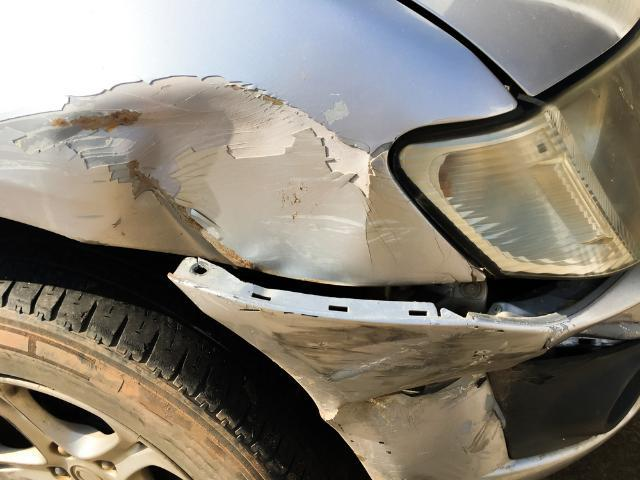dent: (0, 79, 481, 283)
dislocated part: (156, 256, 640, 480)
scratch: (267, 319, 532, 480)
